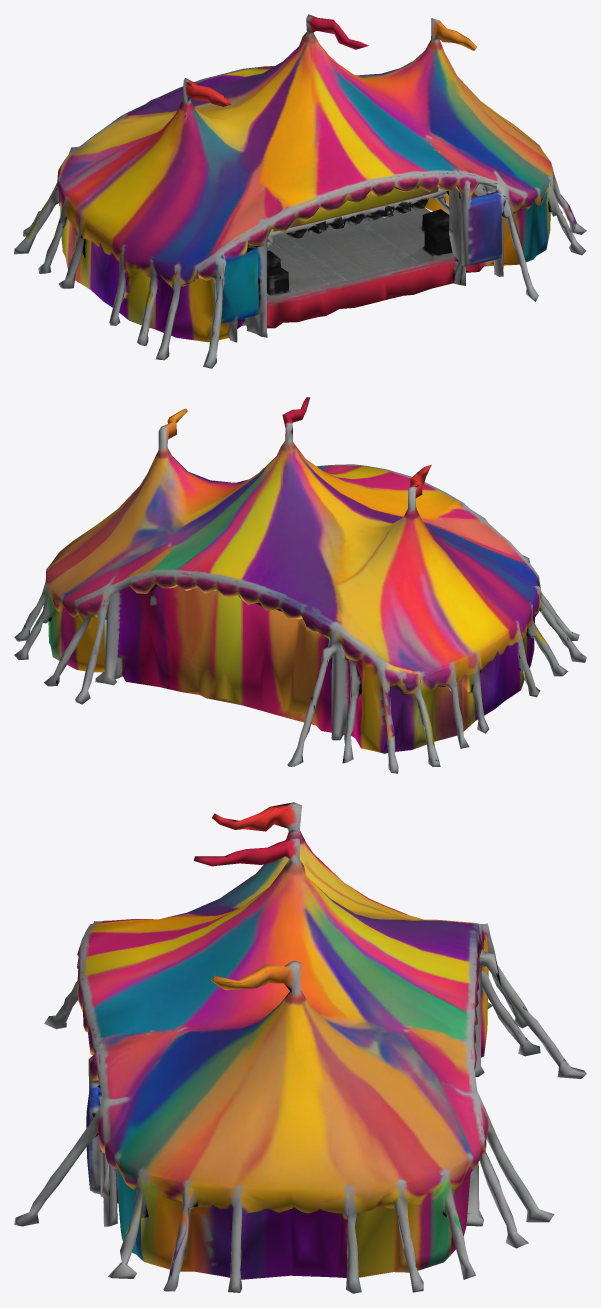
Rendered from fest_tent_stage.glb.
3 views of the same model, one above another, from view 1: azimuth 30°, elevation 25°; view 2: azimuth 150°, elevation 25°; view 3: azimuth 270°, elevation 25° (orthographic). The views are drawn at different scales.
Parts seen in each view (by area): view 1: fest_tent_stage; view 2: fest_tent_stage; view 3: fest_tent_stage.
Boxes of the visible parts, left/top/right/bottom form: fest_tent_stage: left=14, top=14, right=586, bottom=368; fest_tent_stage: left=14, top=397, right=586, bottom=773; fest_tent_stage: left=14, top=802, right=586, bottom=1293.
Bounding box in the file's own units: 30 × 15 × 25.
Materials: 1 (1 with a texture image).
